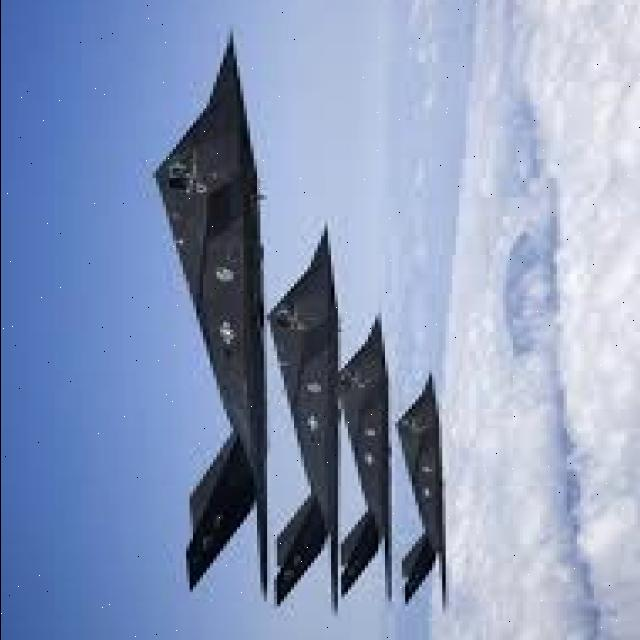F117: (123, 13, 270, 580), (203, 214, 349, 606), (311, 312, 398, 618), (389, 354, 482, 634)
